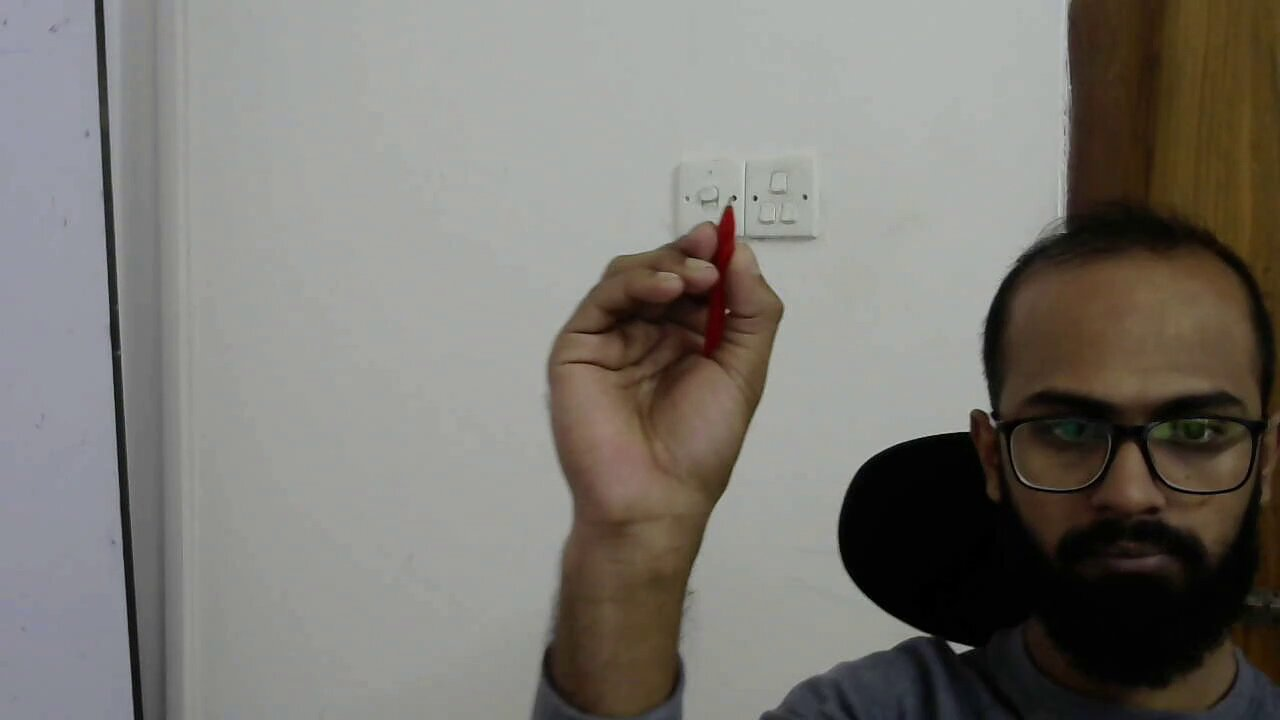pointer: (548, 221, 784, 455)
